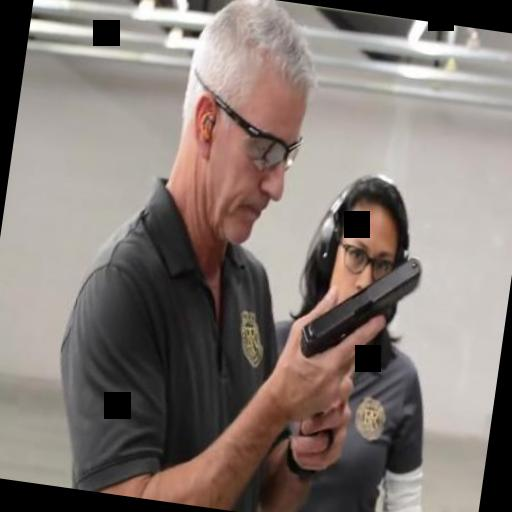Handgun: (286, 238, 430, 413)
